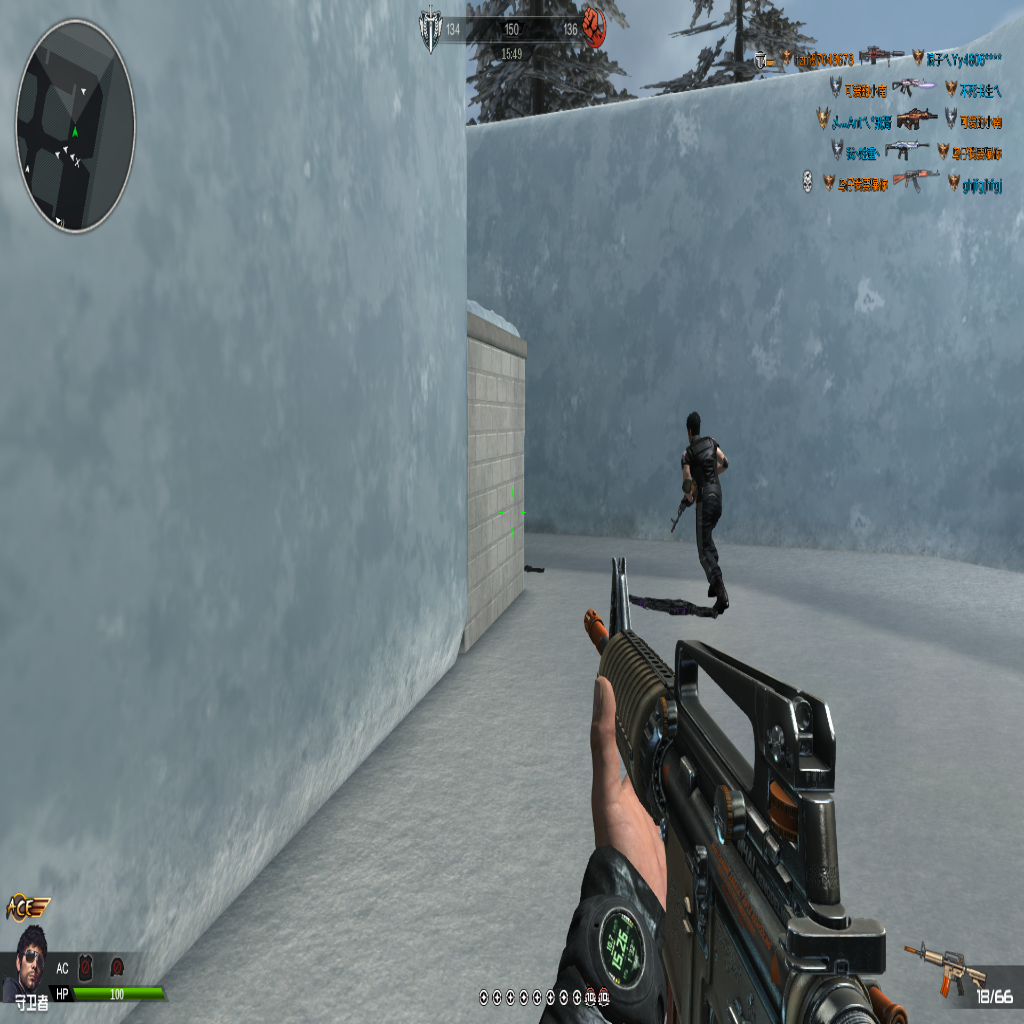ct: (674, 410, 730, 606)
